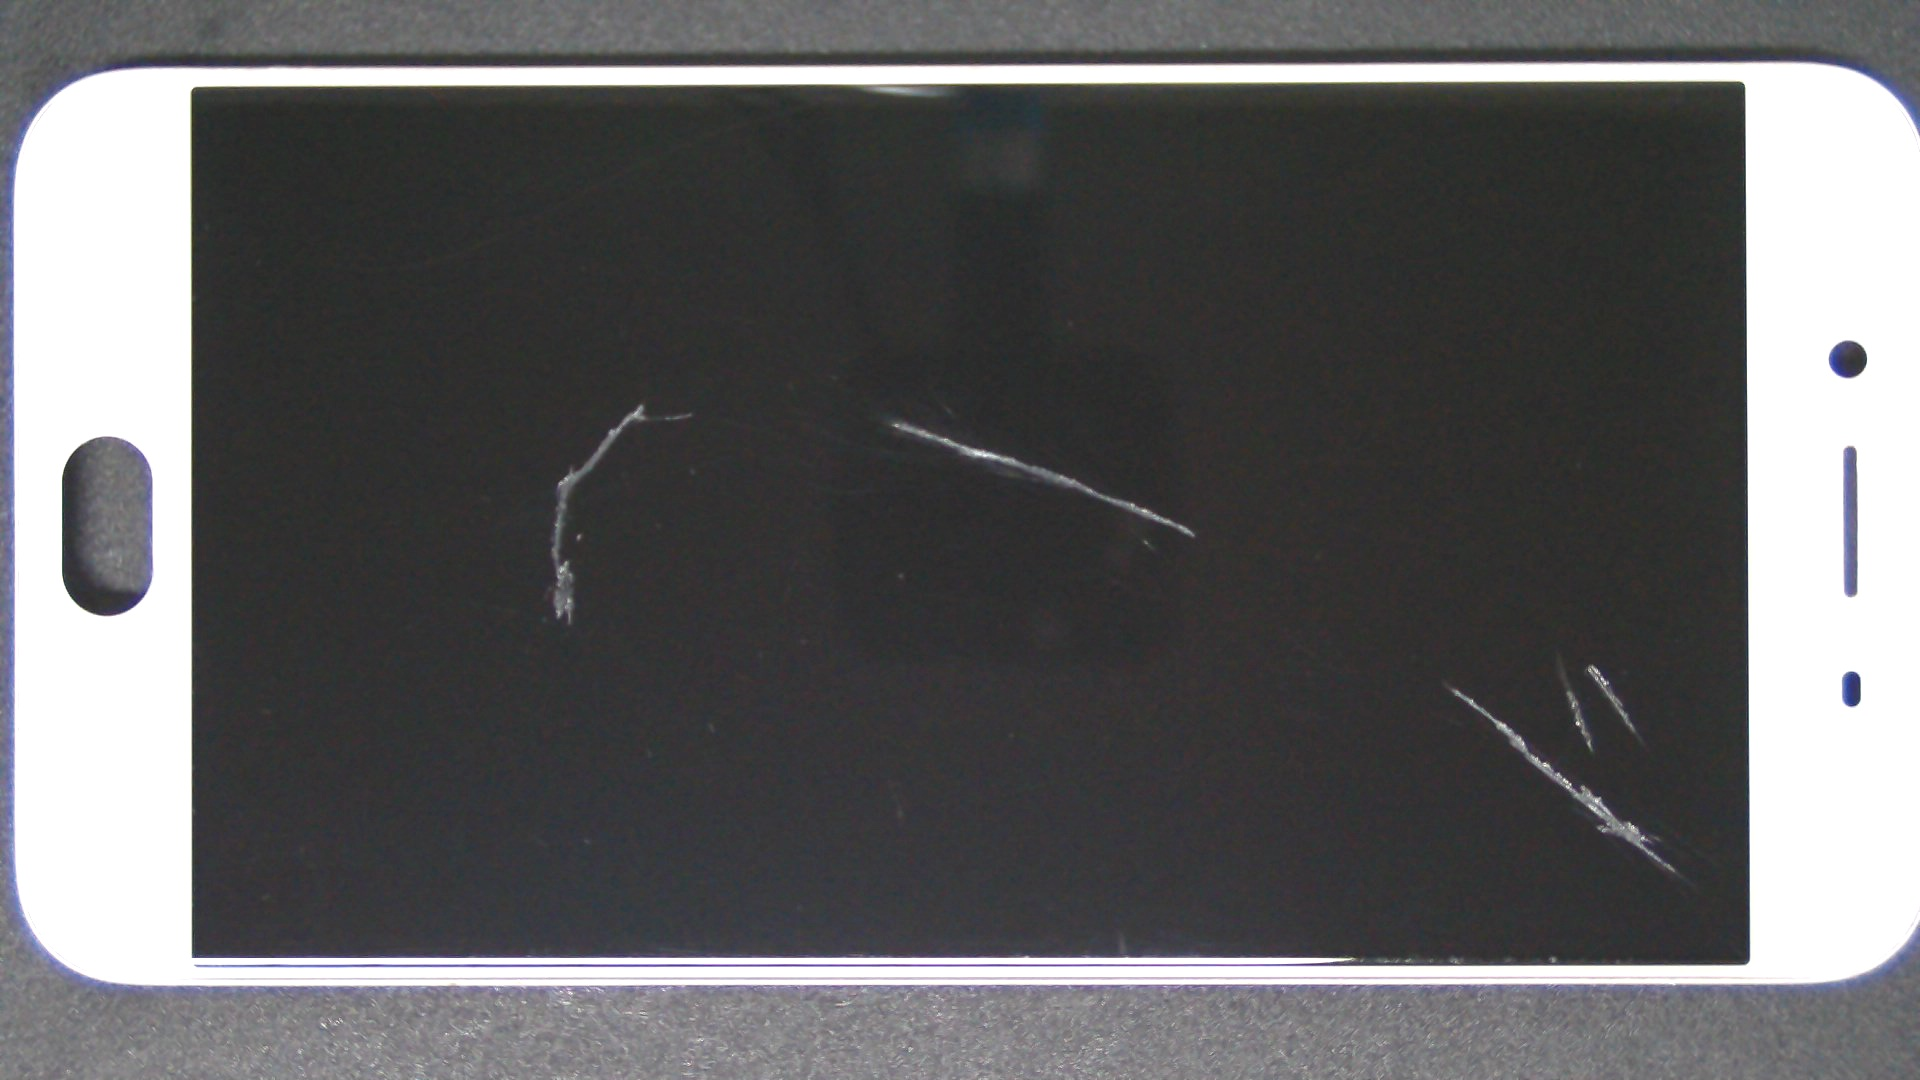oil: (725, 342, 1920, 1034), (779, 338, 1920, 1013), (796, 331, 1920, 996), (448, 210, 1344, 630), (323, 199, 955, 609)
